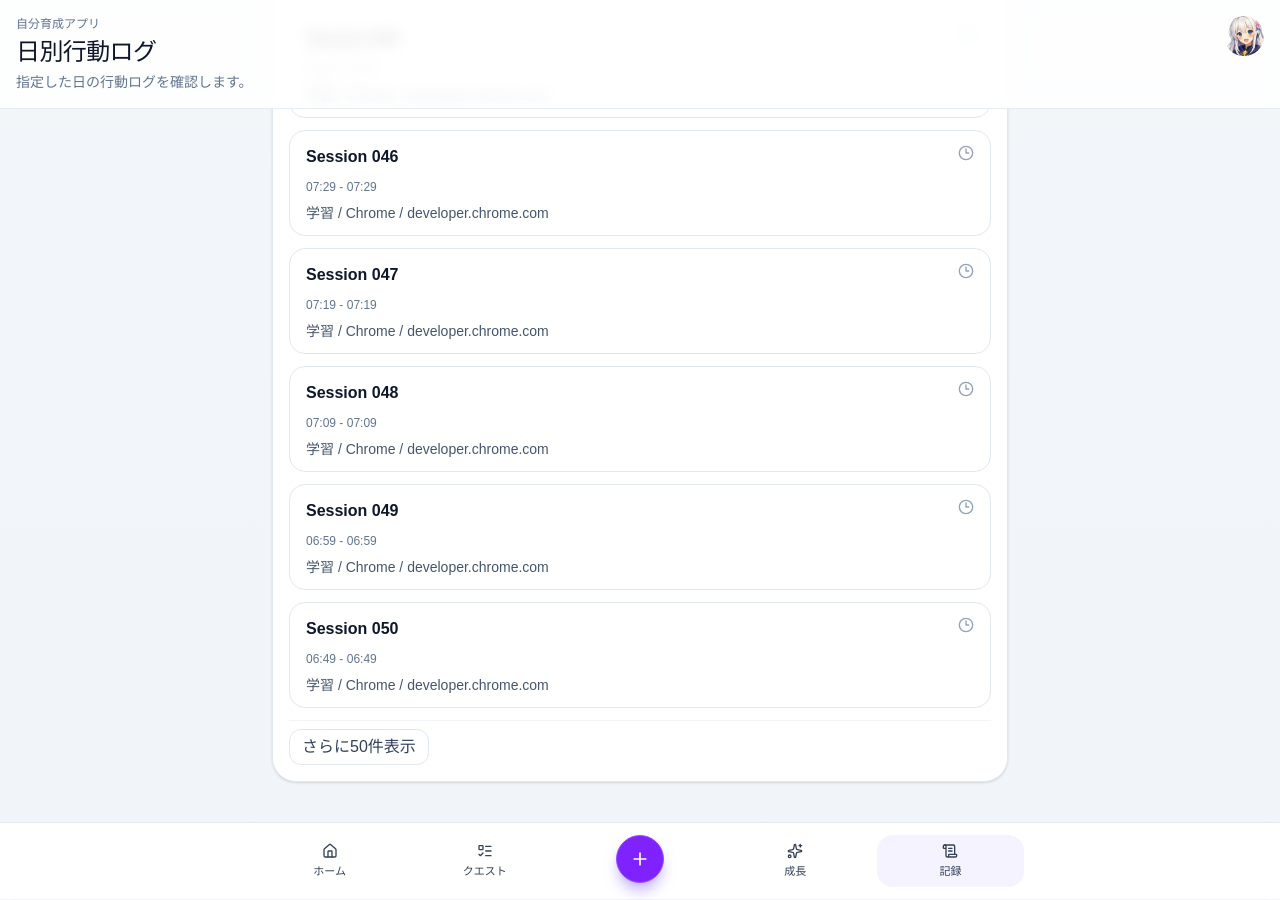
Test case: activity log routes › refetches the session page from the beginning when hidden sessions are included
The width and height of the screenshot is (1280, 900).
(page scrolled)
Step 1. Click the button "さらに50件表示" → (359, 747), box [289,729,429,765]
(page scrolled)
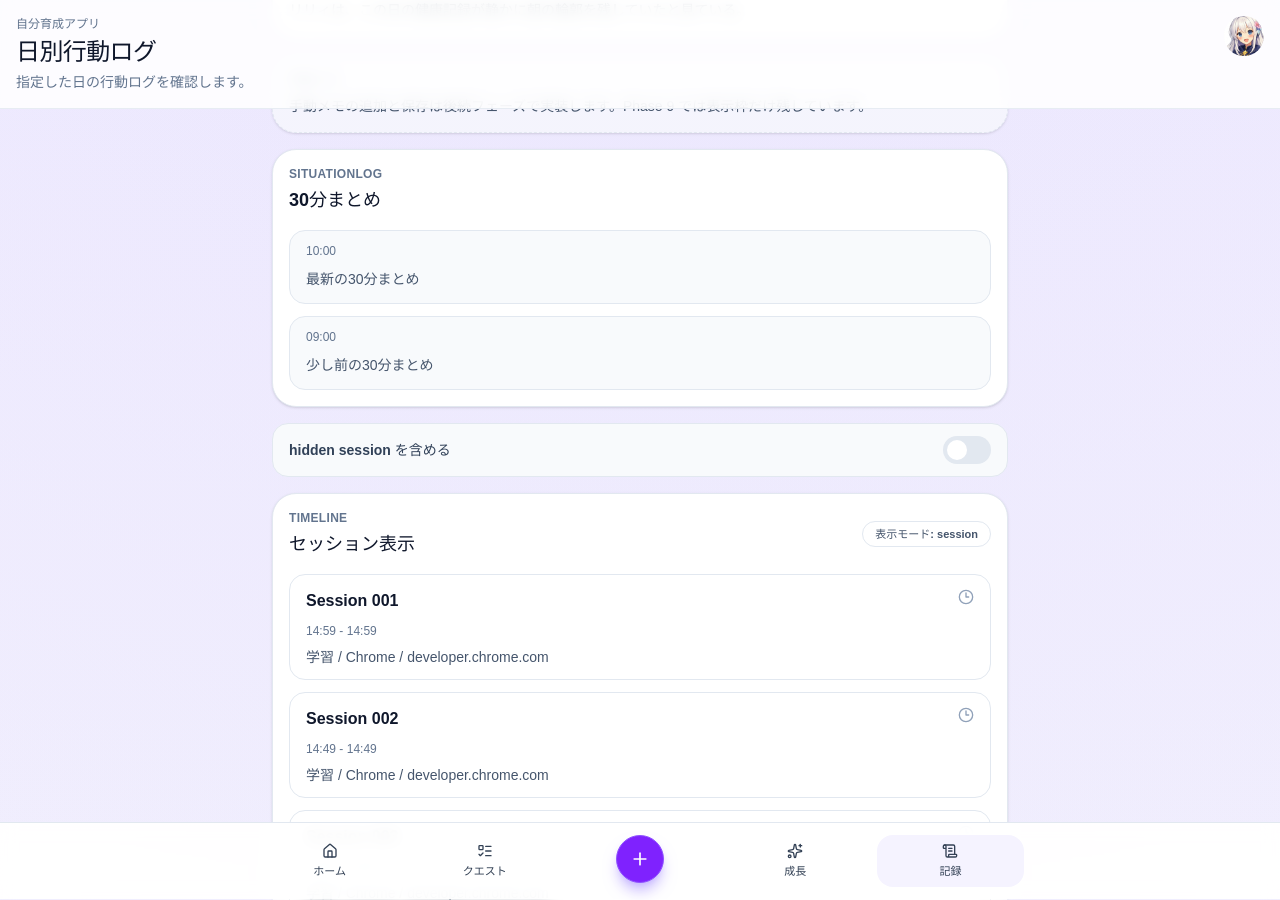
Step 2. Click the switch named "Include hidden sessions in timeline" → (967, 450), box [943,436,991,464]
(page scrolled)
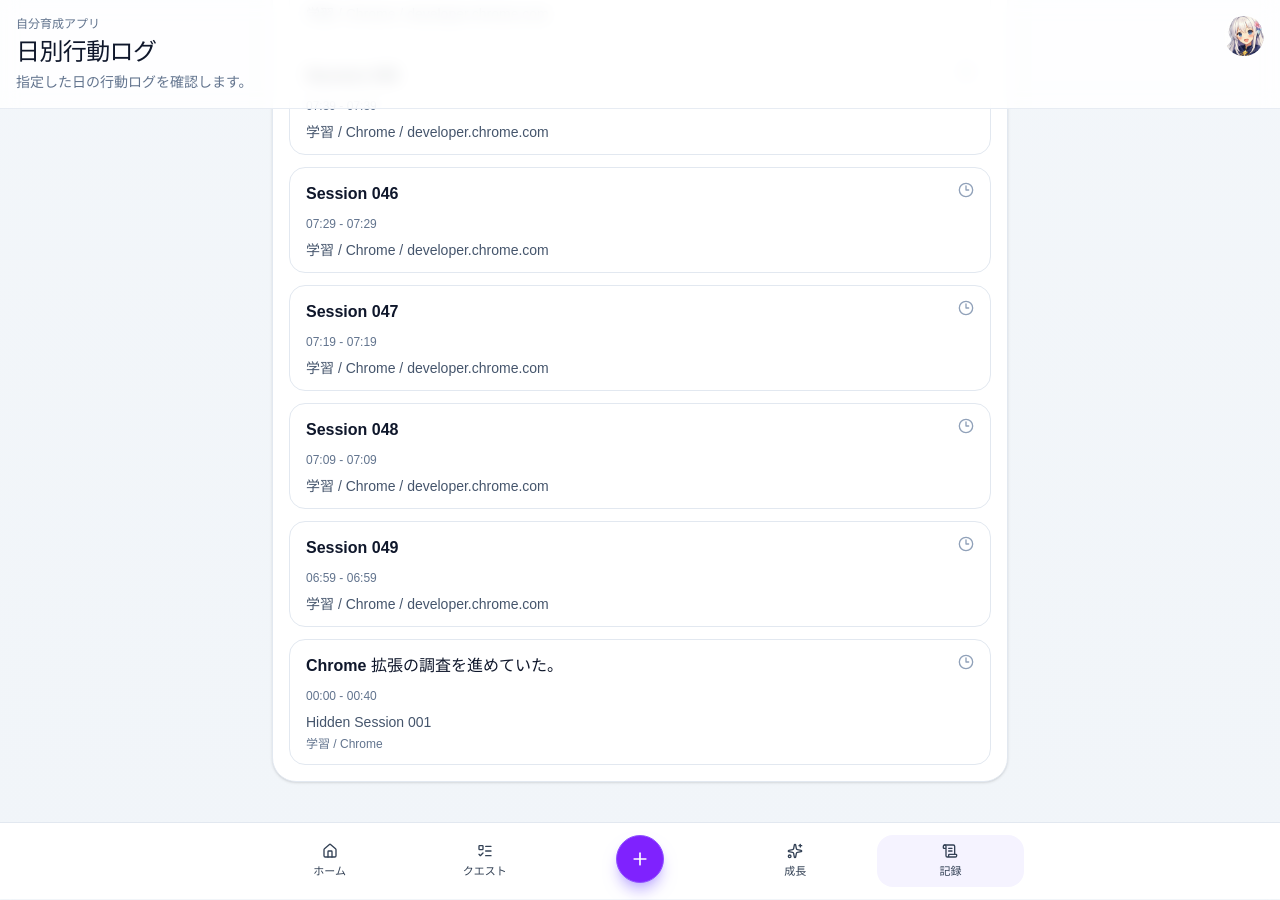
expect the text "Hidden Session 001" is shown: met, box [306,714,431,730]
